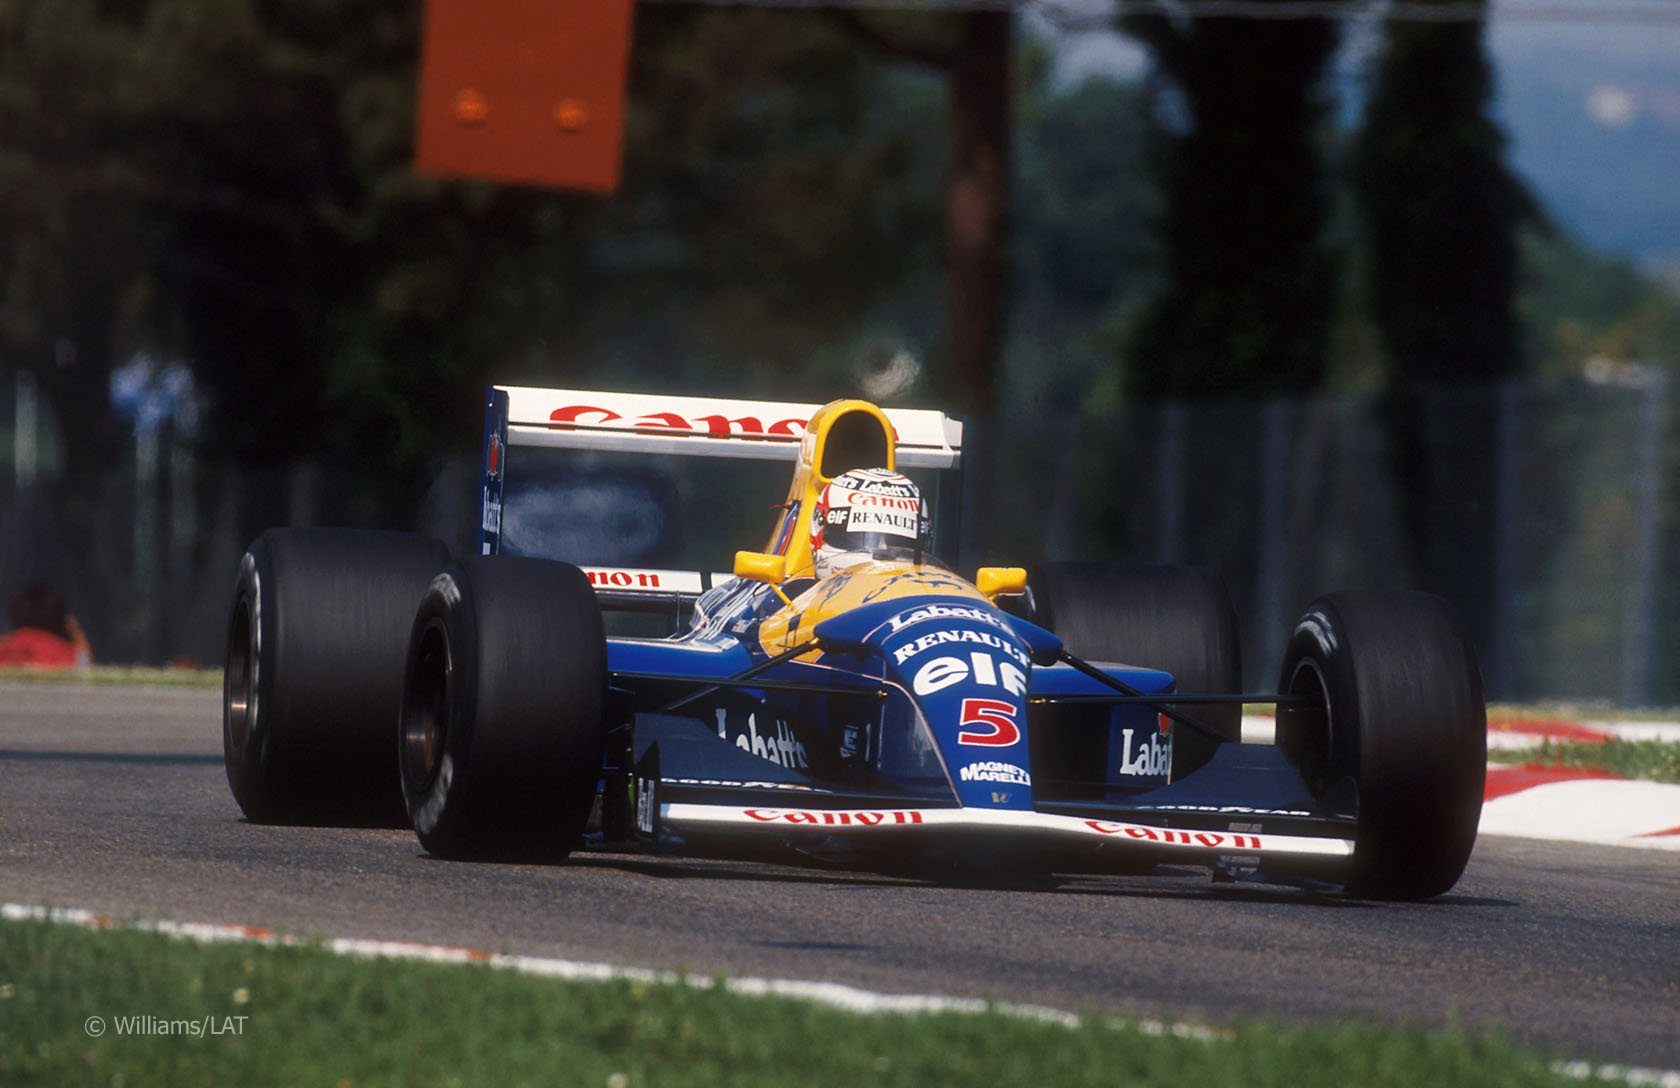f1_car: (189, 348, 1526, 933)
helmet: (801, 459, 949, 612)
